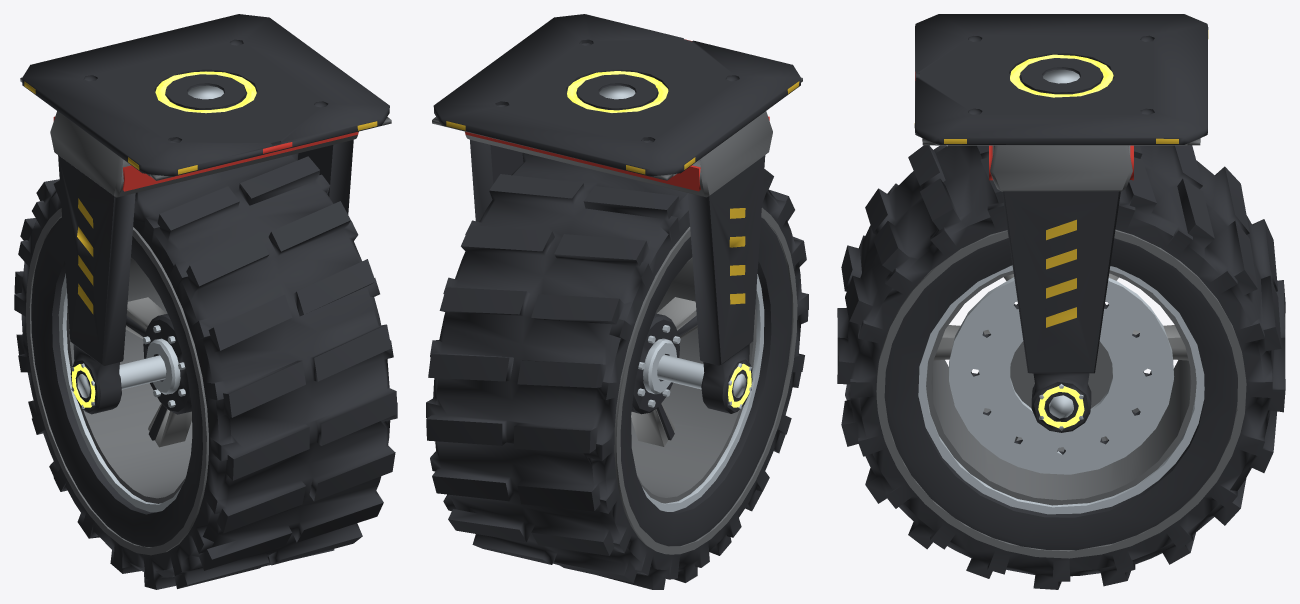
File: R4M_Wheel_LOD1.fbx
The picture shows the model from 3 angles, left to right: view 1: azimuth 30°, elevation 25°; view 2: azimuth 150°, elevation 25°; view 3: azimuth 270°, elevation 25°; orthographic projection. The views are drawn at different scales.
Visible parts, largest first — view 1: R4M_Wheel_Rotor_LOD1, R4M_Wheel_Mount_LOD1; view 2: R4M_Wheel_Rotor_LOD1, R4M_Wheel_Mount_LOD1; view 3: R4M_Wheel_Rotor_LOD1, R4M_Wheel_Mount_LOD1.
Boxes of the visible parts, bbox=[...] form: R4M_Wheel_Rotor_LOD1: bbox=[14, 153, 397, 589]; R4M_Wheel_Mount_LOD1: bbox=[20, 14, 391, 414]; R4M_Wheel_Rotor_LOD1: bbox=[426, 152, 808, 589]; R4M_Wheel_Mount_LOD1: bbox=[432, 14, 802, 413]; R4M_Wheel_Rotor_LOD1: bbox=[837, 145, 1285, 589]; R4M_Wheel_Mount_LOD1: bbox=[914, 14, 1208, 432].
Size of the model in its own units: 0.5108 by 0.91 by 0.7799.
